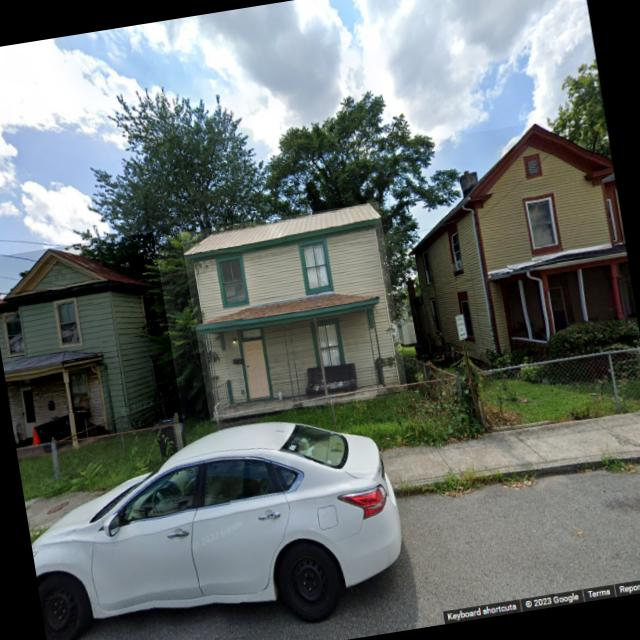House: (391, 112, 640, 373), (181, 202, 408, 422), (0, 232, 183, 449)
